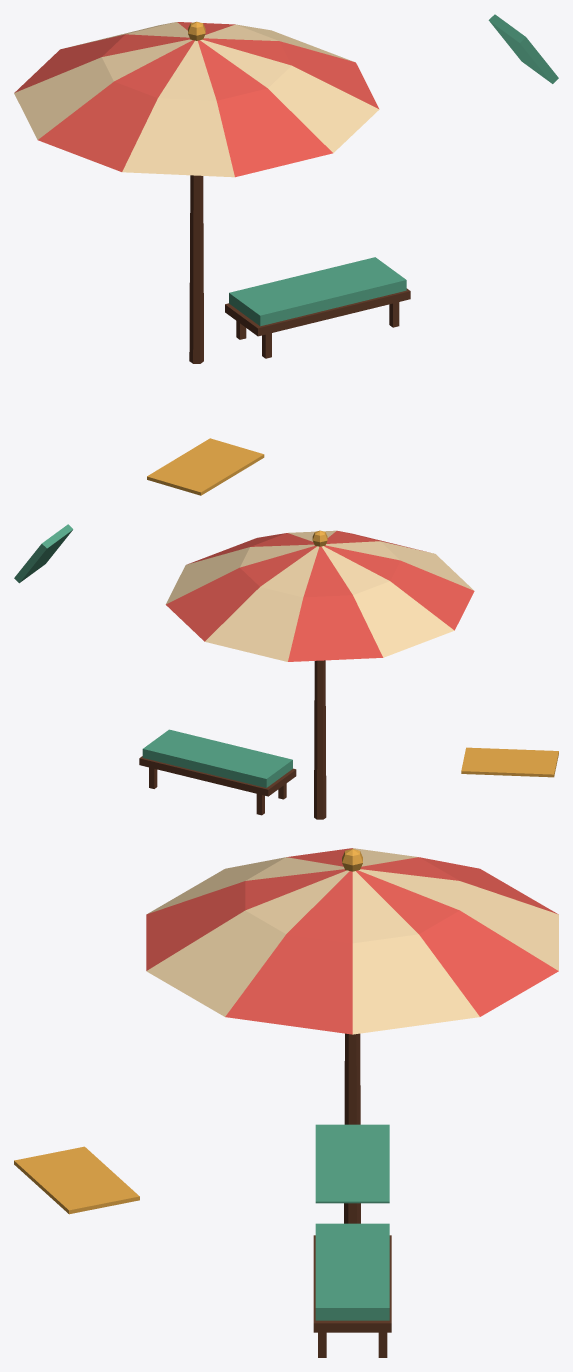
The model's file is ParkParkDecorUmbrella.obj.
3 renders of one model, top to bottom at view 1: azimuth 30°, elevation 25°; view 2: azimuth 150°, elevation 25°; view 3: azimuth 270°, elevation 25°, orthographic. The views are drawn at different scales.
Visible parts, largest first — view 1: ParkParkDecorUmbrella; view 2: ParkParkDecorUmbrella; view 3: ParkParkDecorUmbrella.
Boxes of the visible parts, x1,y1,x2,y2 form: ParkParkDecorUmbrella: [14, 14, 558, 495]; ParkParkDecorUmbrella: [14, 524, 558, 819]; ParkParkDecorUmbrella: [14, 848, 558, 1357].
Size of the model in its own units: 8.01 by 5.09 by 6.28.
